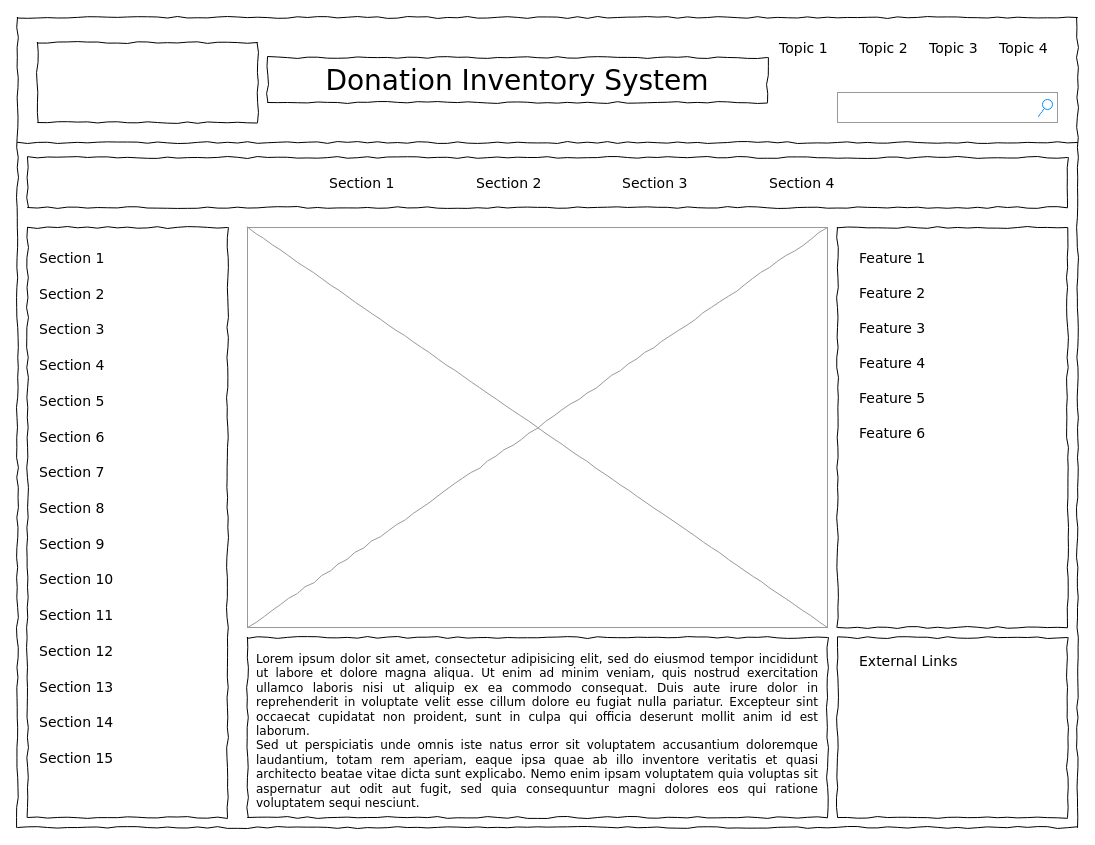
This 1095x845 diagram has some shape labels left out. Here are the shapes that lost their labels. From the top down, the box of each, then its label:
(36, 42, 258, 122): LOGO
(836, 92, 1058, 122): Search
